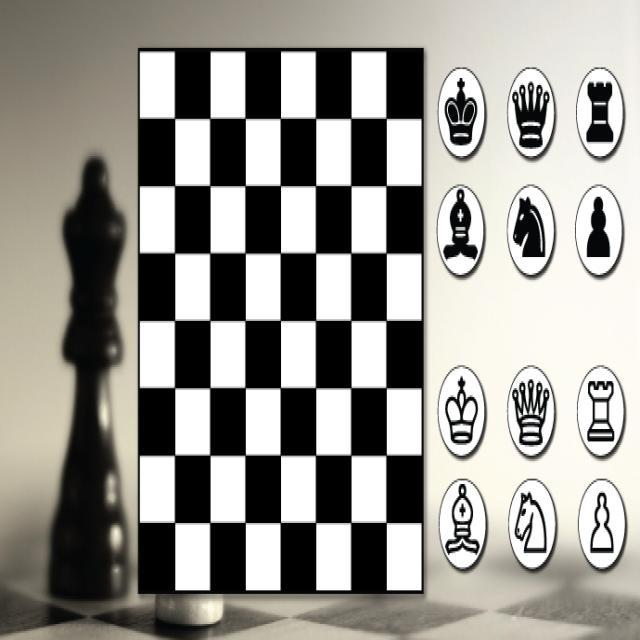chess-table-corners: (407, 19, 437, 76), (126, 29, 154, 82), (125, 566, 152, 614), (406, 564, 433, 608)
